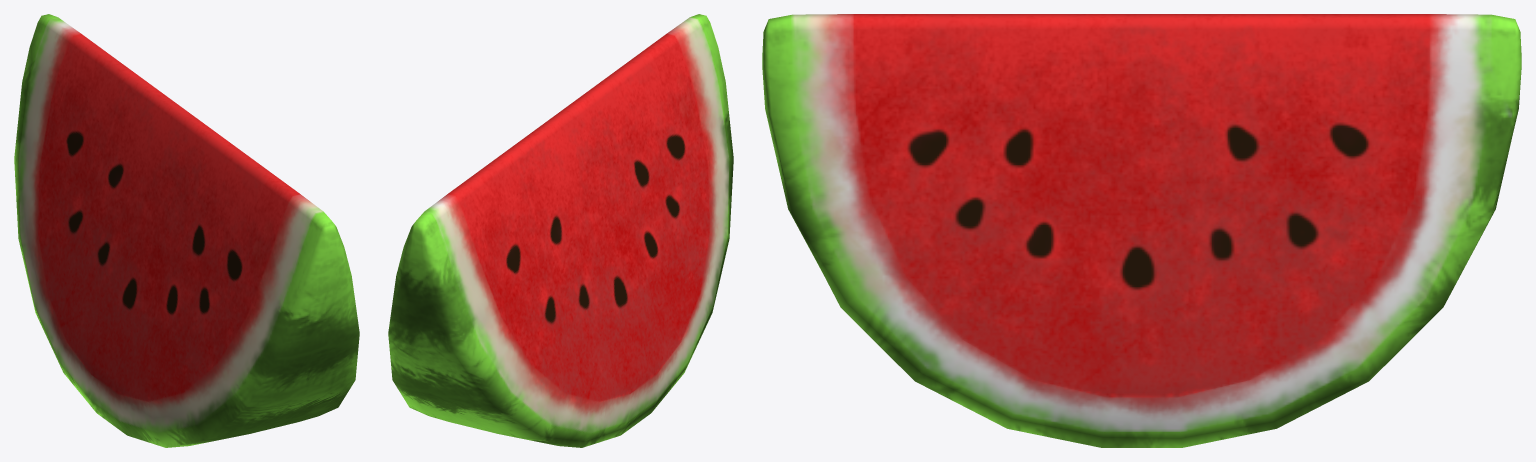
File: Watermelon.fbx
3 views of the same model, side by side, from view 1: azimuth 30°, elevation 25°; view 2: azimuth 150°, elevation 25°; view 3: azimuth 270°, elevation 25° (orthographic). The views are drawn at different scales.
Visible parts, largest first — view 1: Watermelon; view 2: Watermelon; view 3: Watermelon.
Part boxes in pixels (bbox=[...]): Watermelon: bbox=[14, 14, 359, 447]; Watermelon: bbox=[388, 14, 733, 447]; Watermelon: bbox=[762, 14, 1521, 447].
Bounding box in the file's own units: 0.9944 × 1.7 × 3.02.
